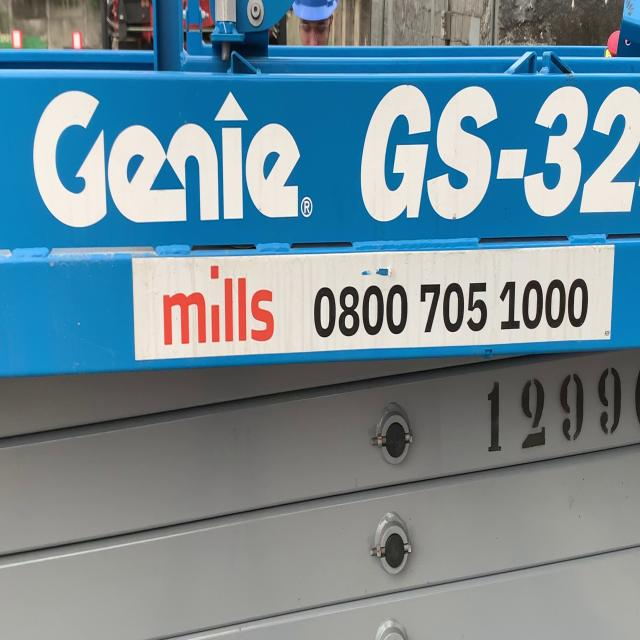Adesivo Longo: (131, 243, 617, 361)
